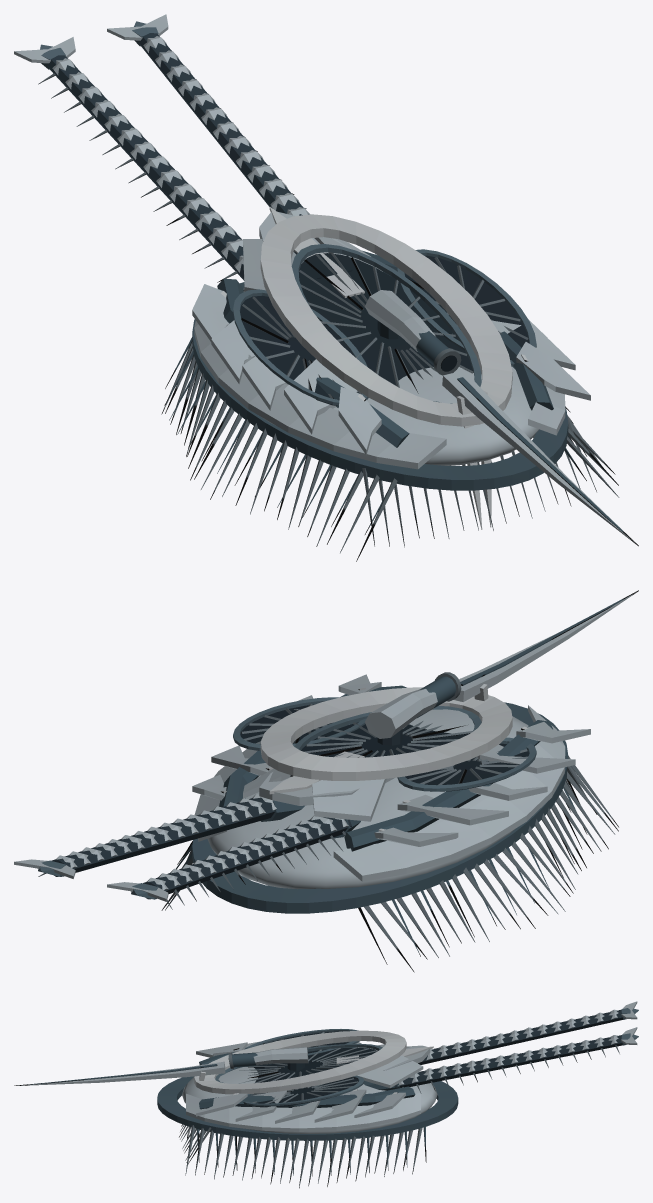
The model's file is boss.glb.
The picture shows the model from 3 angles, top to bottom: view 1: azimuth 30°, elevation 25°; view 2: azimuth 150°, elevation 25°; view 3: azimuth 270°, elevation 25°; orthographic projection. The views are drawn at different scales.
Visible parts, largest first — view 1: Boss_Runtime; view 2: Boss_Runtime; view 3: Boss_Runtime.
Boxes of the visible parts, bbox=[...] form: Boss_Runtime: bbox=[14, 14, 638, 561]; Boss_Runtime: bbox=[14, 590, 638, 972]; Boss_Runtime: bbox=[14, 1001, 638, 1188].
Size of the model in its own units: 15.03 by 8.28 by 40.01.
Materials: 1 (1 with a texture image).
